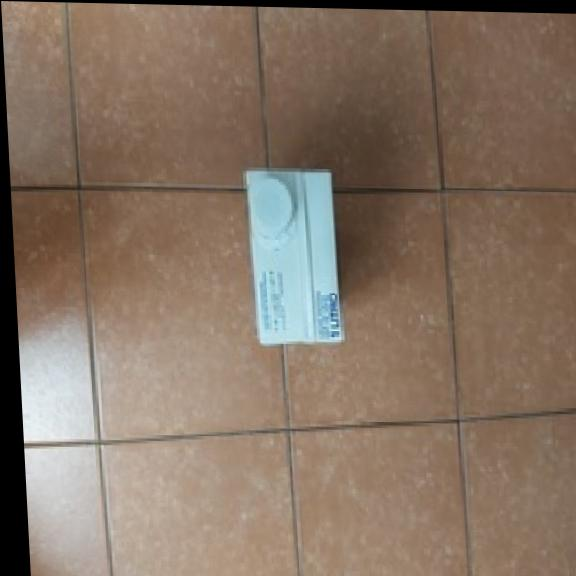Kertas: (246, 167, 344, 347)
